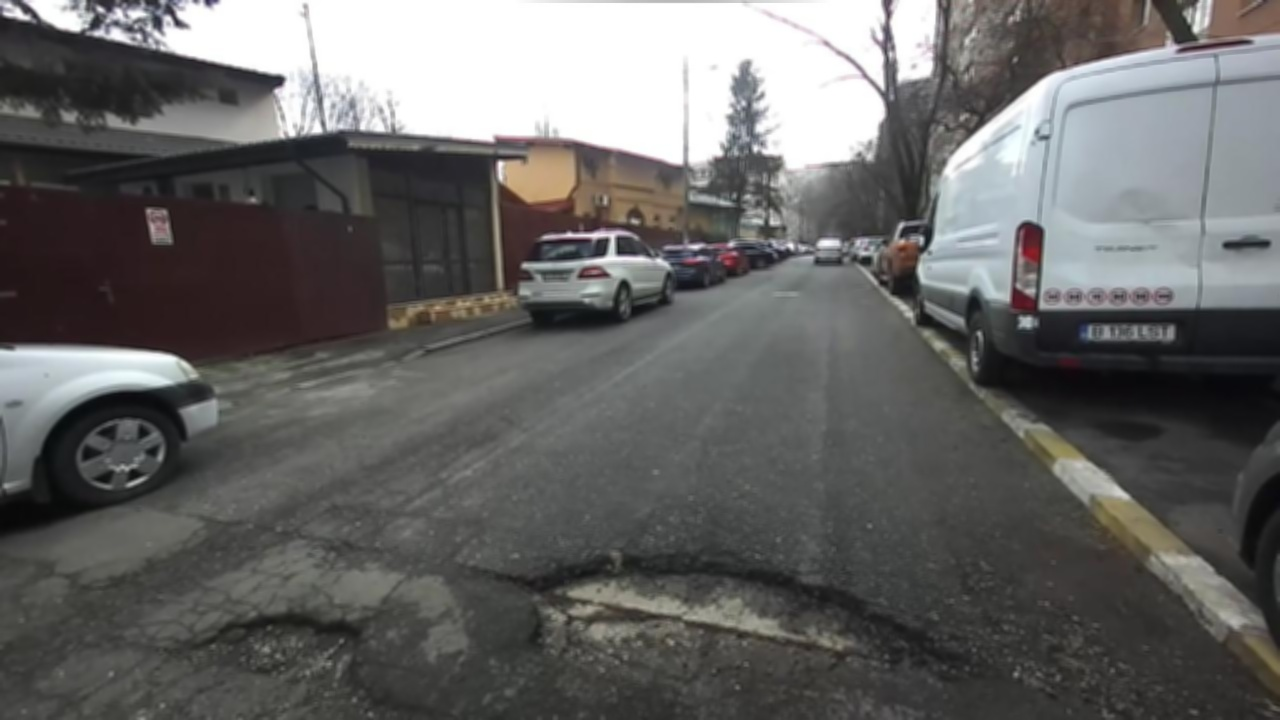pothole: (486, 544, 1010, 709), (172, 608, 388, 711)
